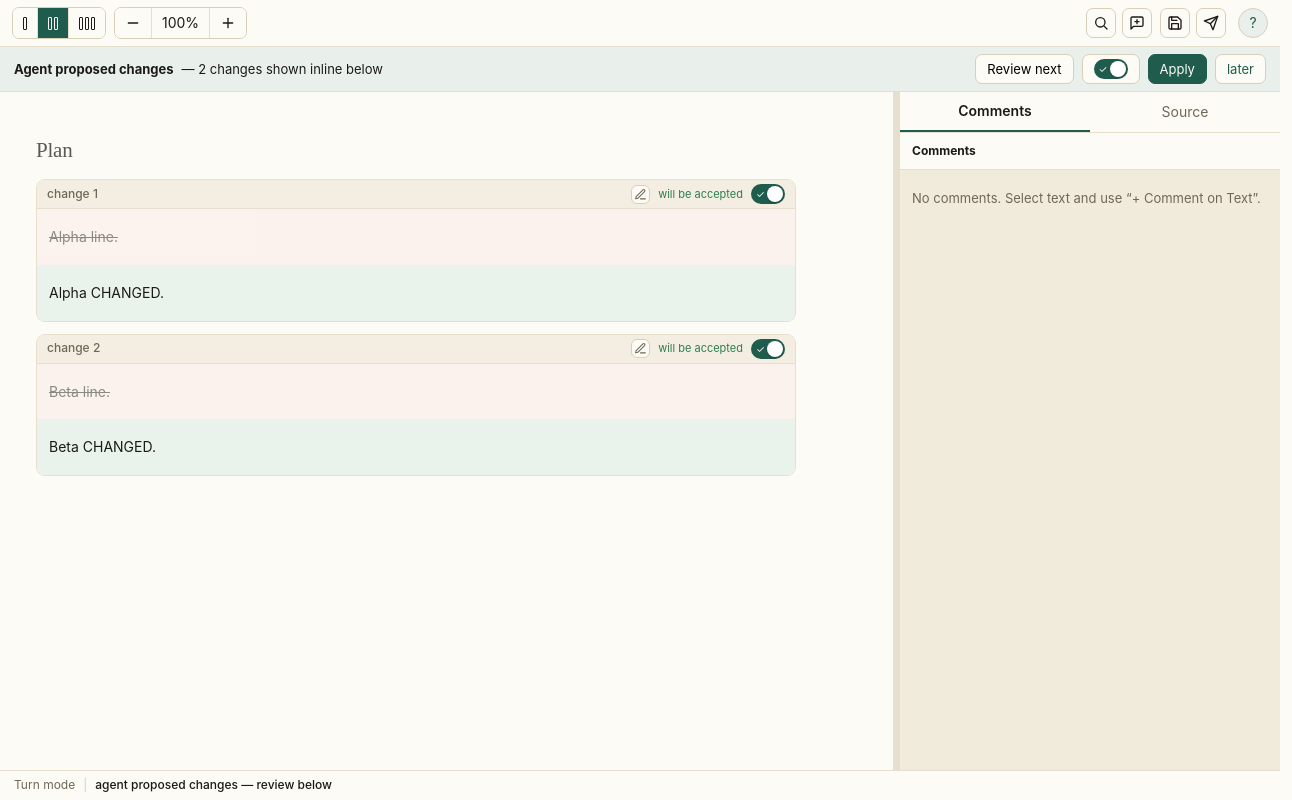
Test: App review diff controls (memory-backed) › Cancel discards an inline edit
Click the button named "edit change 1".
click(641, 194)  # box [631,185,650,204]
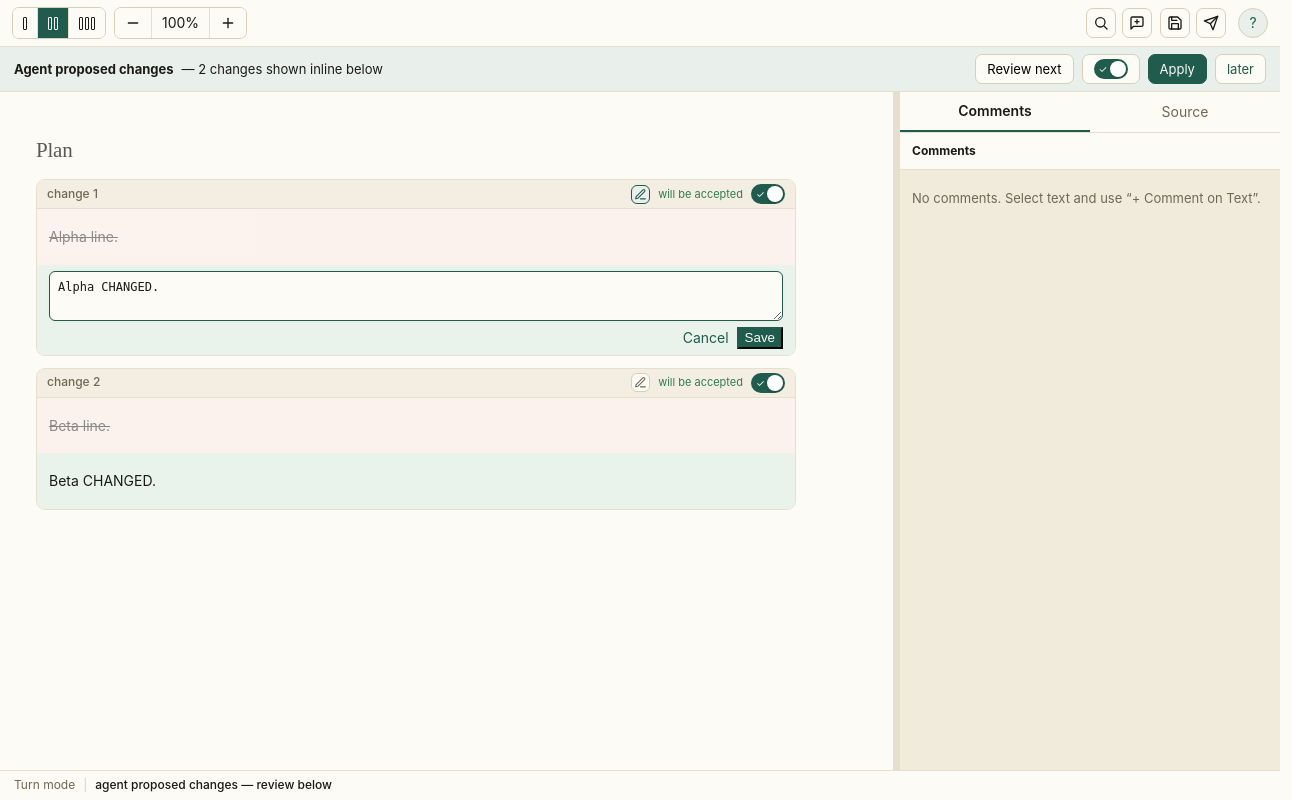
Replace the text in the text box named "edit change 1" with "Alpha EDITED." at {"x": 416, "y": 296}, box [49,271,783,321]
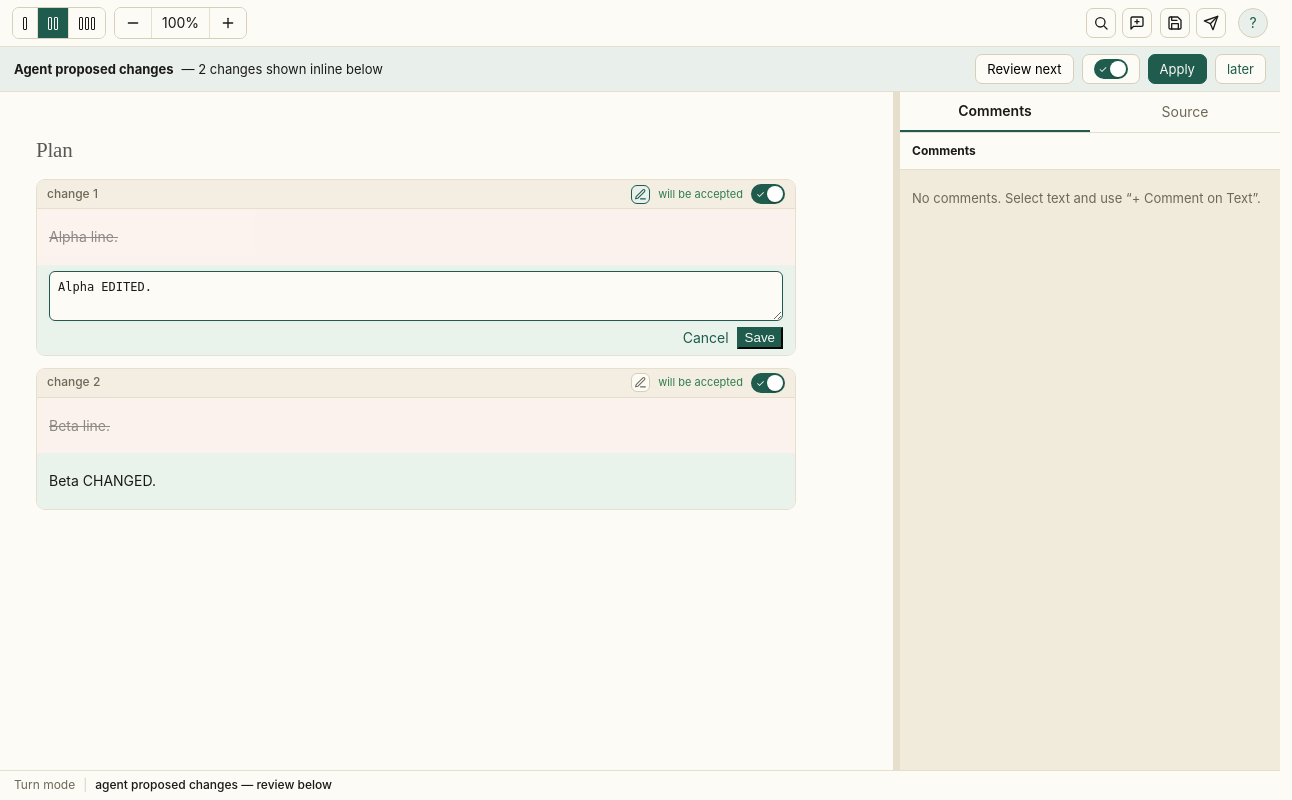
Click the button with aria-label "cancel edit".
click(706, 338)  # box [683,327,729,348]
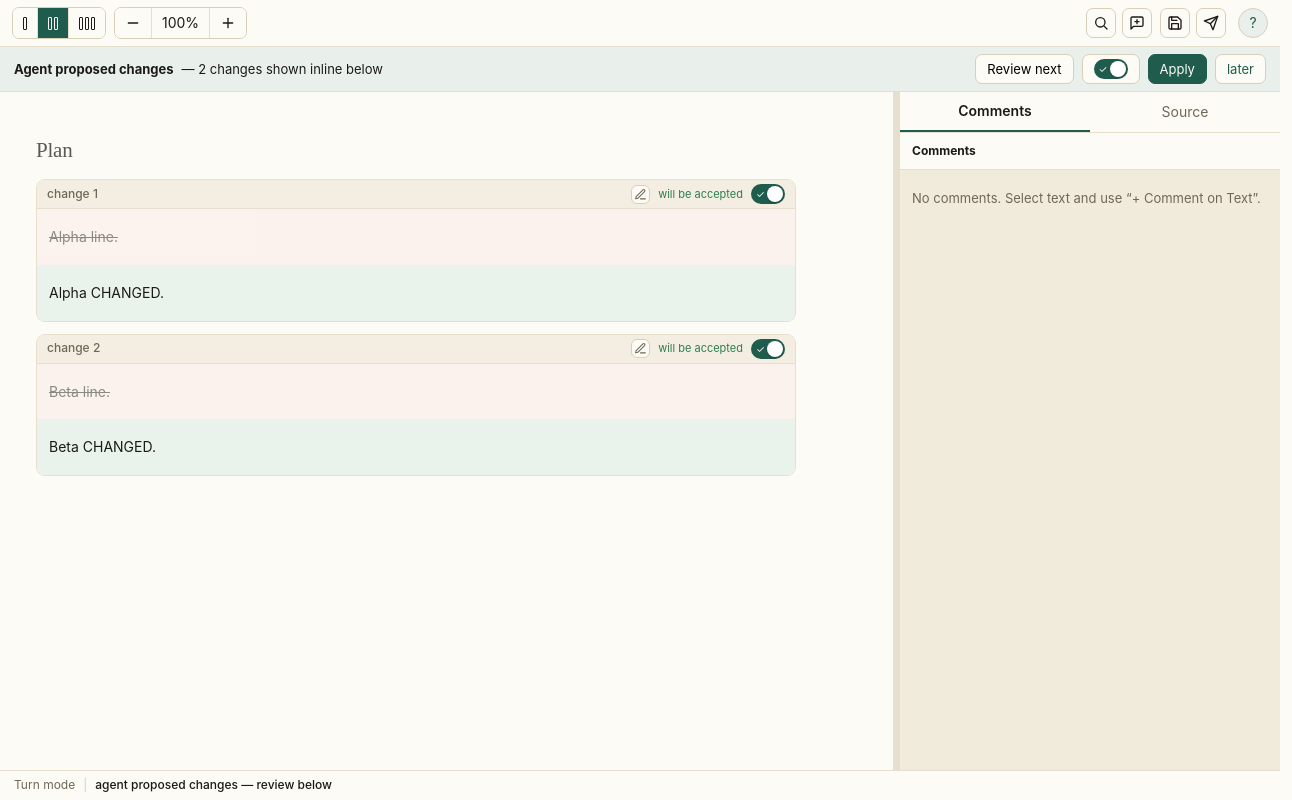
Click the button "Apply".
click(1177, 69)  # box [1148,54,1207,84]
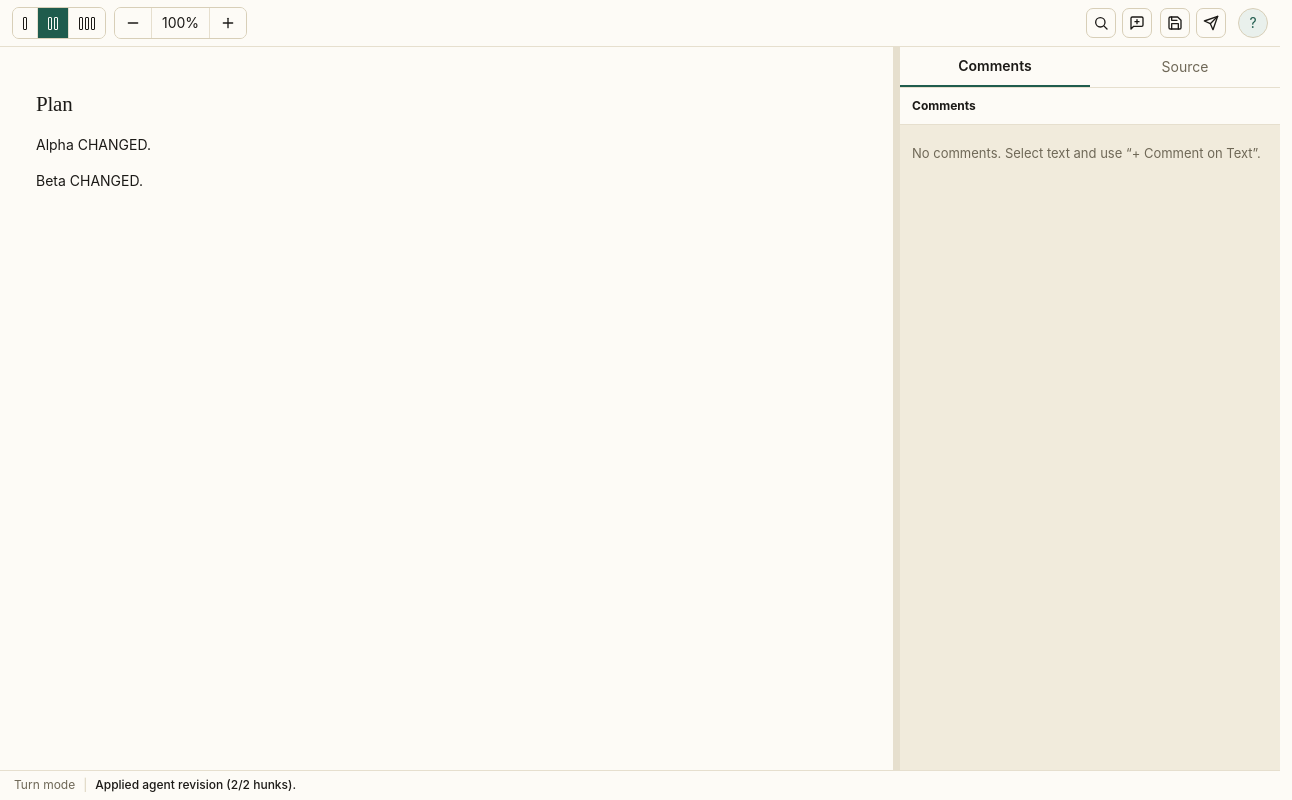
expect the text "Alpha EDITED." is not shown: met
expect the text "Alpha CHANGED." is shown: met, box [36,136,151,153]
expect the text "Agent proposed changes" is gone: met
